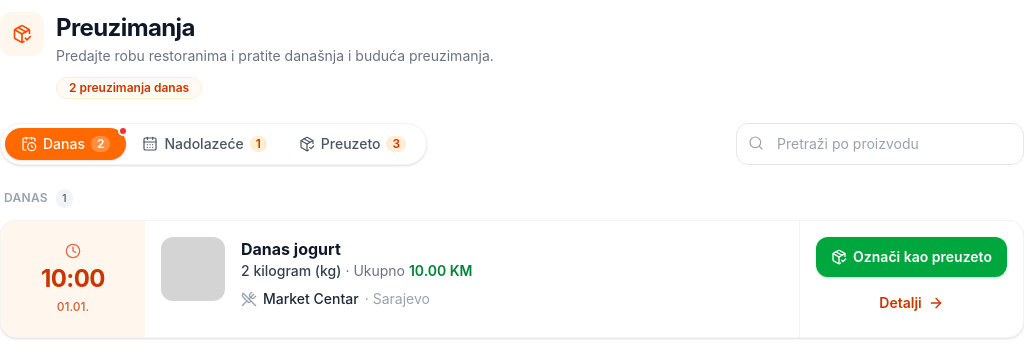
Scenario: PickupsPage tab switching › shows Upcoming when the Picked up response arrives after it
expect the heading "Danas jogurt" is shown: met, box [241,239,341,259]
Click the tab "Preuzeto 3".
click(352, 144)  # box [283,128,422,160]
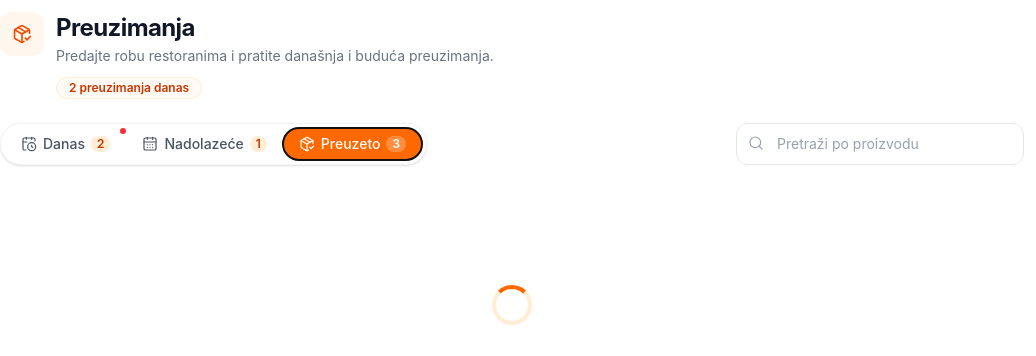
Click the tab "Nadolazeće 1".
click(205, 144)  # box [126,128,283,160]
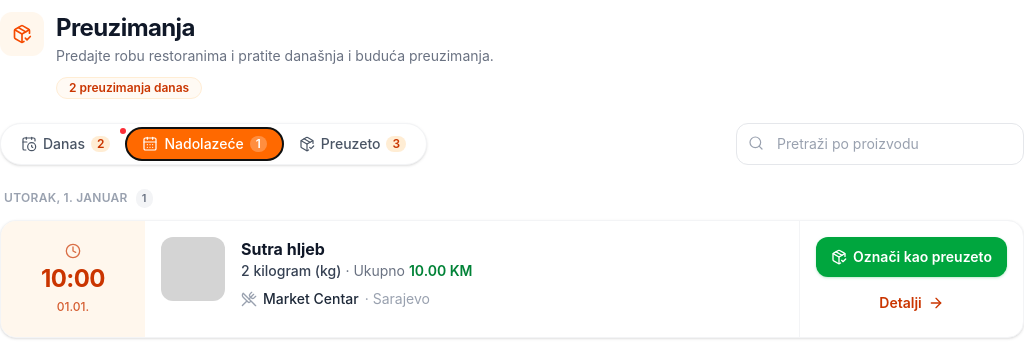
expect the heading "Sutra hljeb" is shown: met, box [241,239,325,259]
